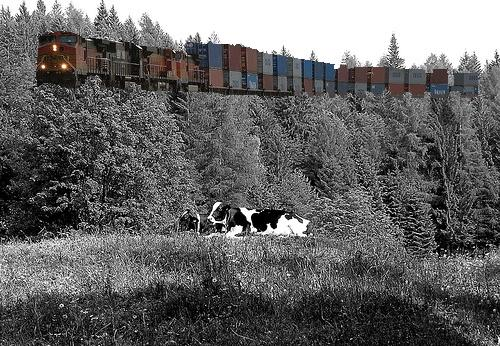tampered: (37, 32, 478, 98)
